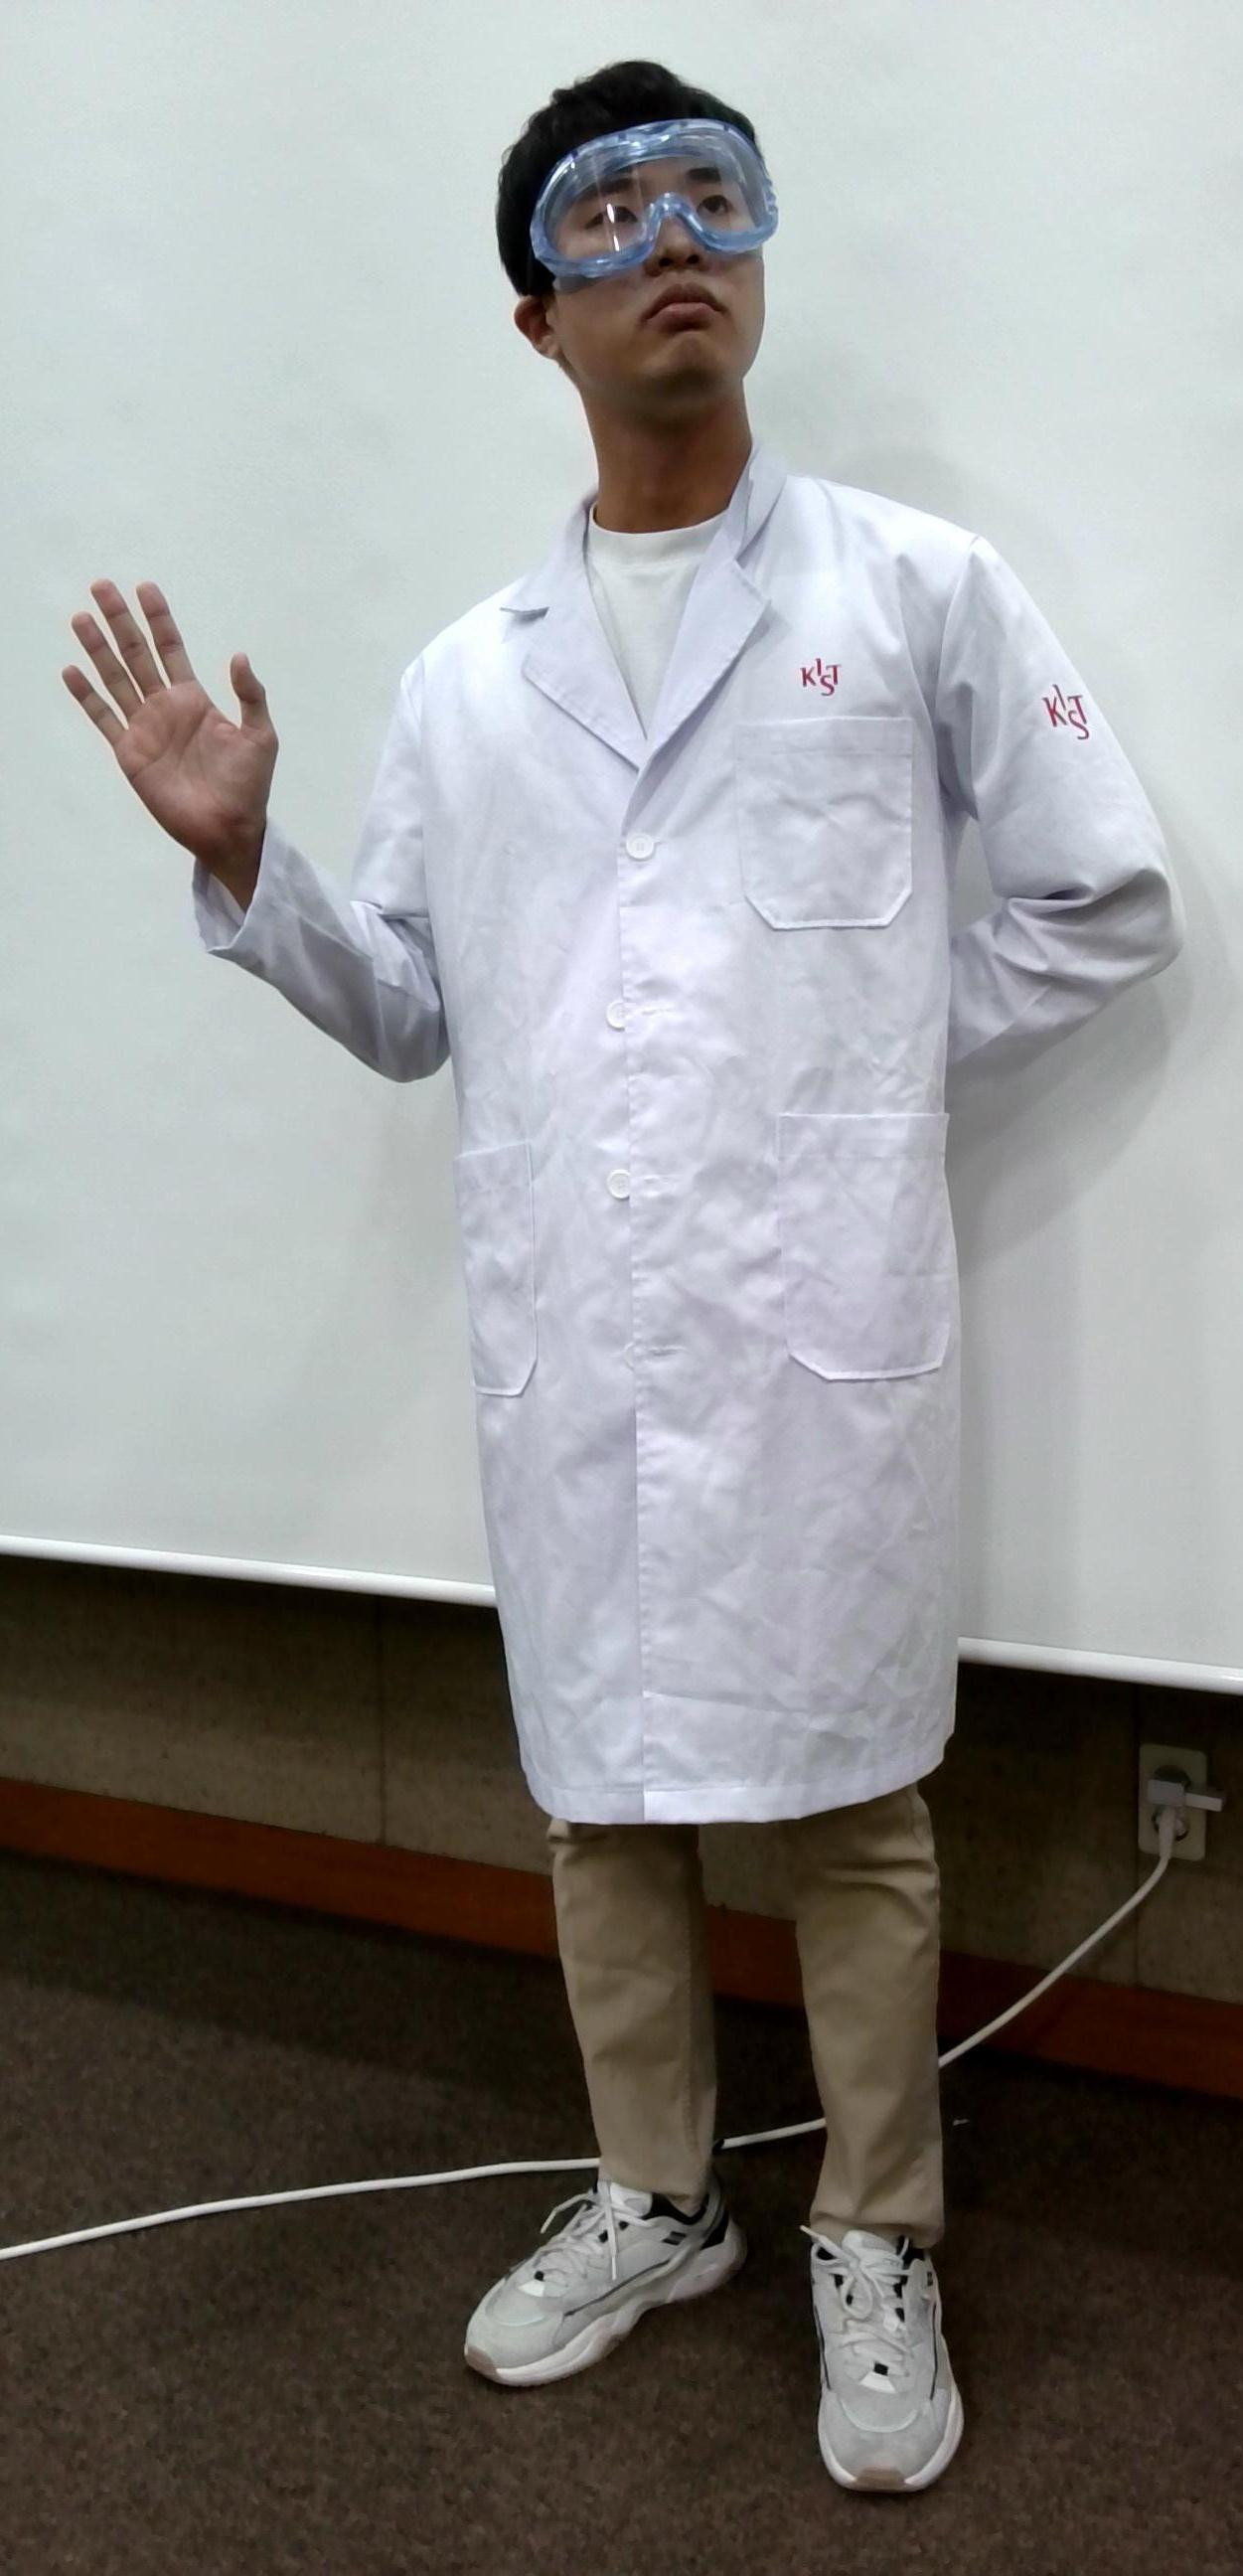lab_coat: (424, 562, 1041, 1837)
